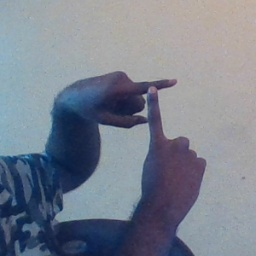T: (117, 66, 188, 155)
